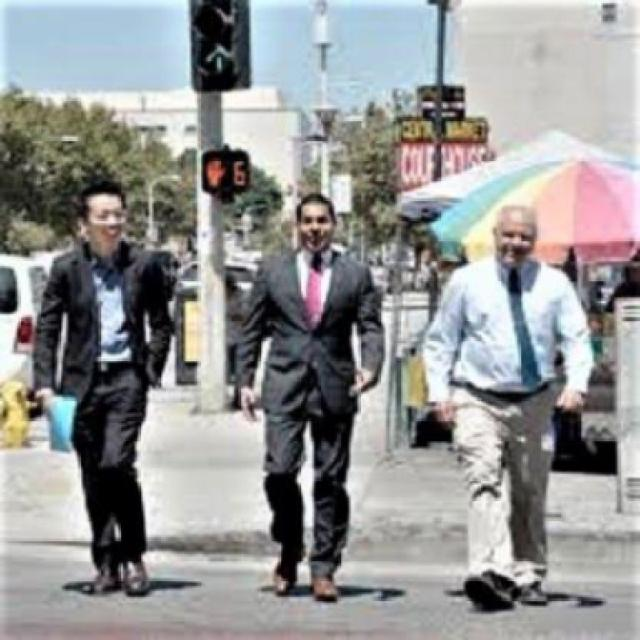Person: (429, 196, 597, 618), (228, 192, 392, 616), (35, 184, 177, 596)
